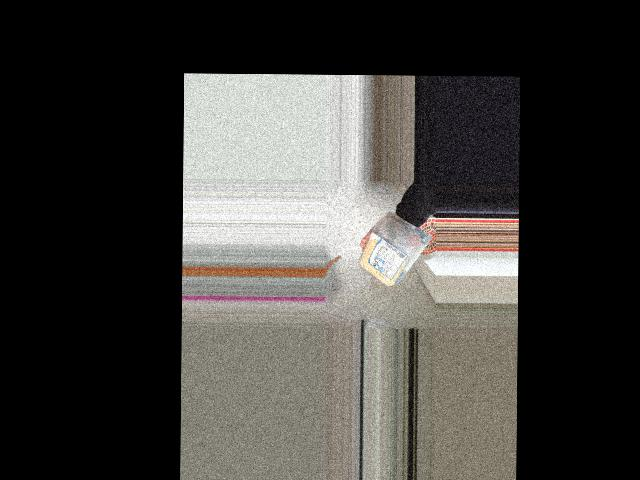cheese: (366, 222, 403, 288)
